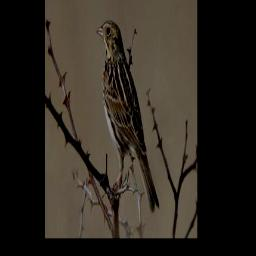Sparrow: (94, 15, 162, 219)
